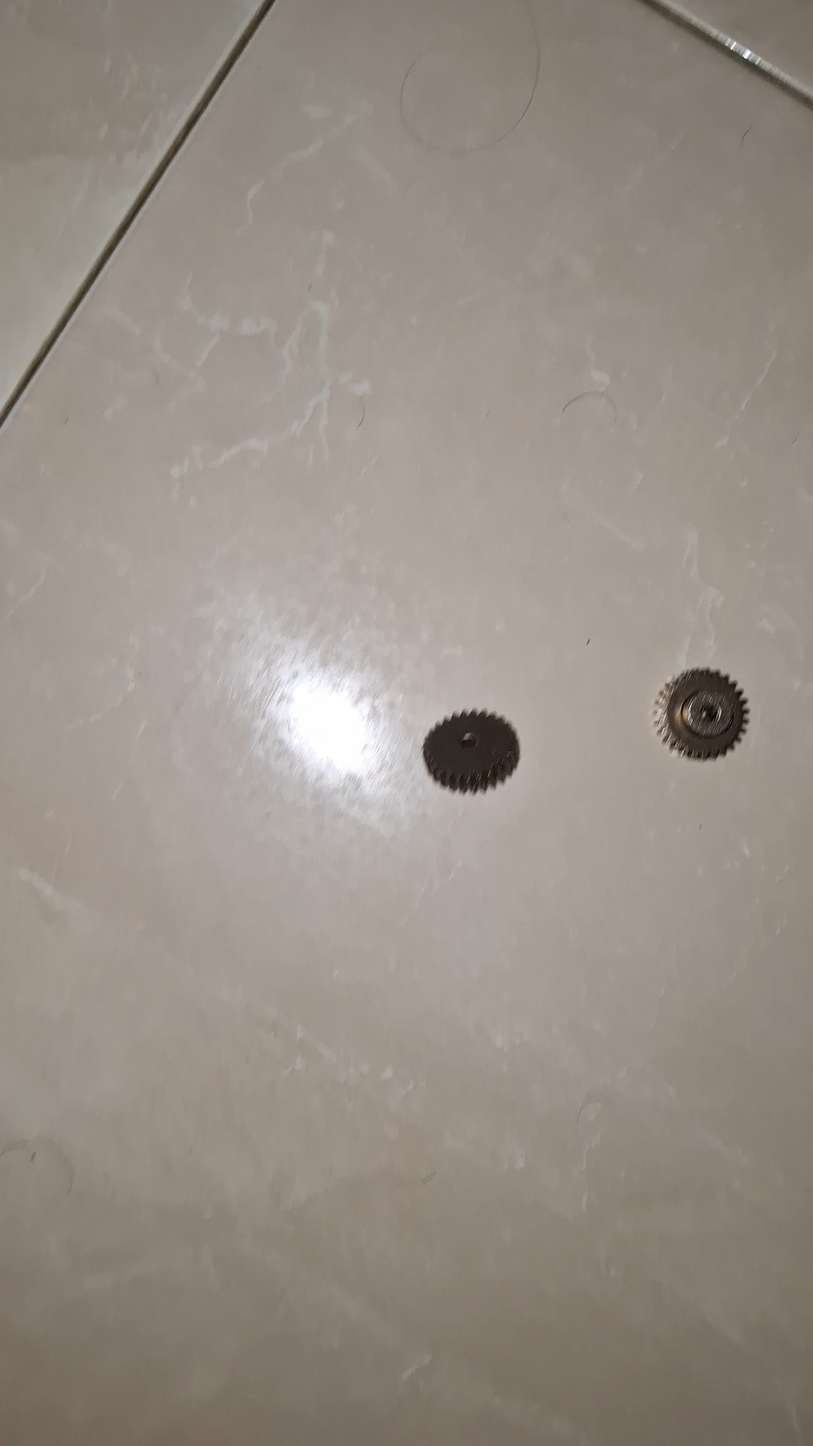spur gear: (655, 669, 748, 758), (423, 712, 519, 792)
